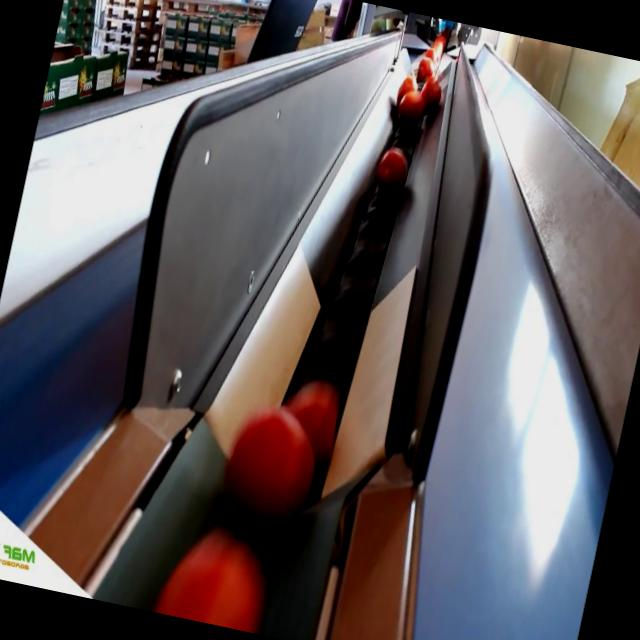Tomato: (206, 394, 323, 516), (146, 523, 272, 633), (284, 375, 342, 446), (370, 142, 408, 198), (392, 86, 427, 130), (390, 74, 420, 103), (414, 54, 440, 82), (421, 81, 444, 112)
